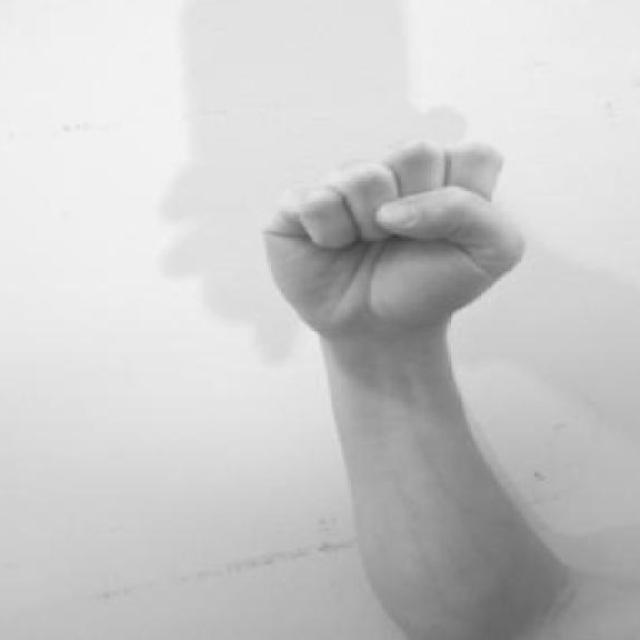S: (248, 126, 543, 359)
